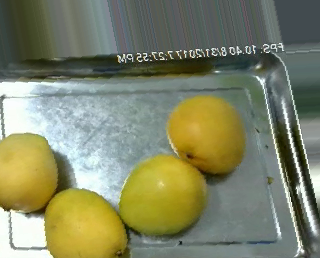Mango: (118, 157, 208, 232), (167, 96, 246, 174), (43, 188, 128, 257), (0, 133, 57, 213)
